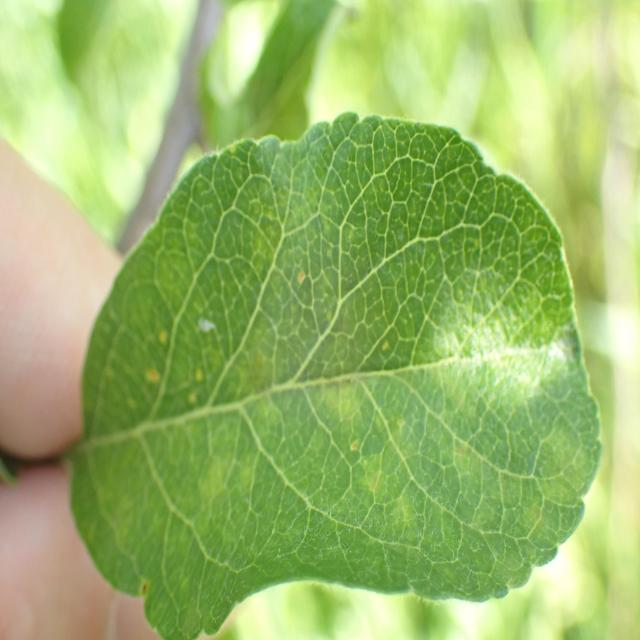scab: (125, 276, 565, 530)
